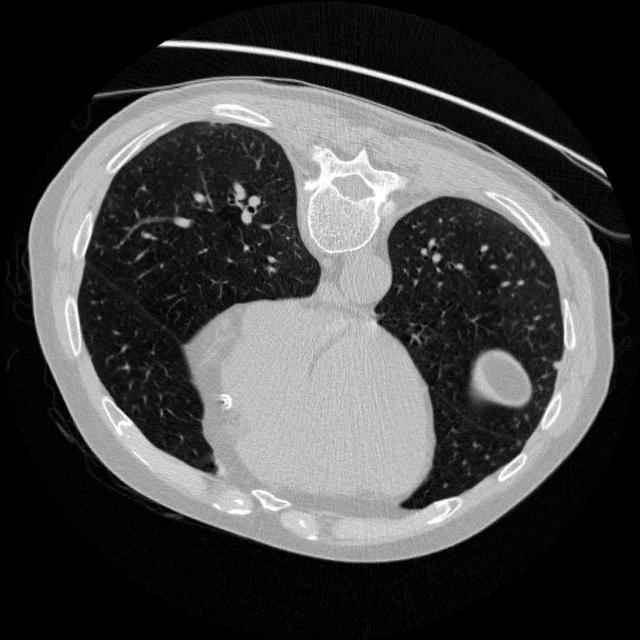nodule: (542, 352, 566, 377)
